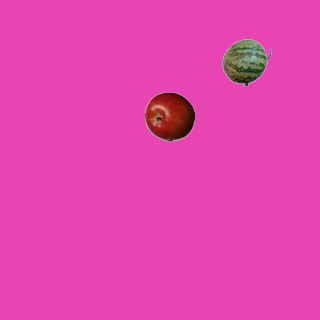Apple Braeburn: (144, 91, 194, 141)
Watermelon: (221, 37, 271, 87)
